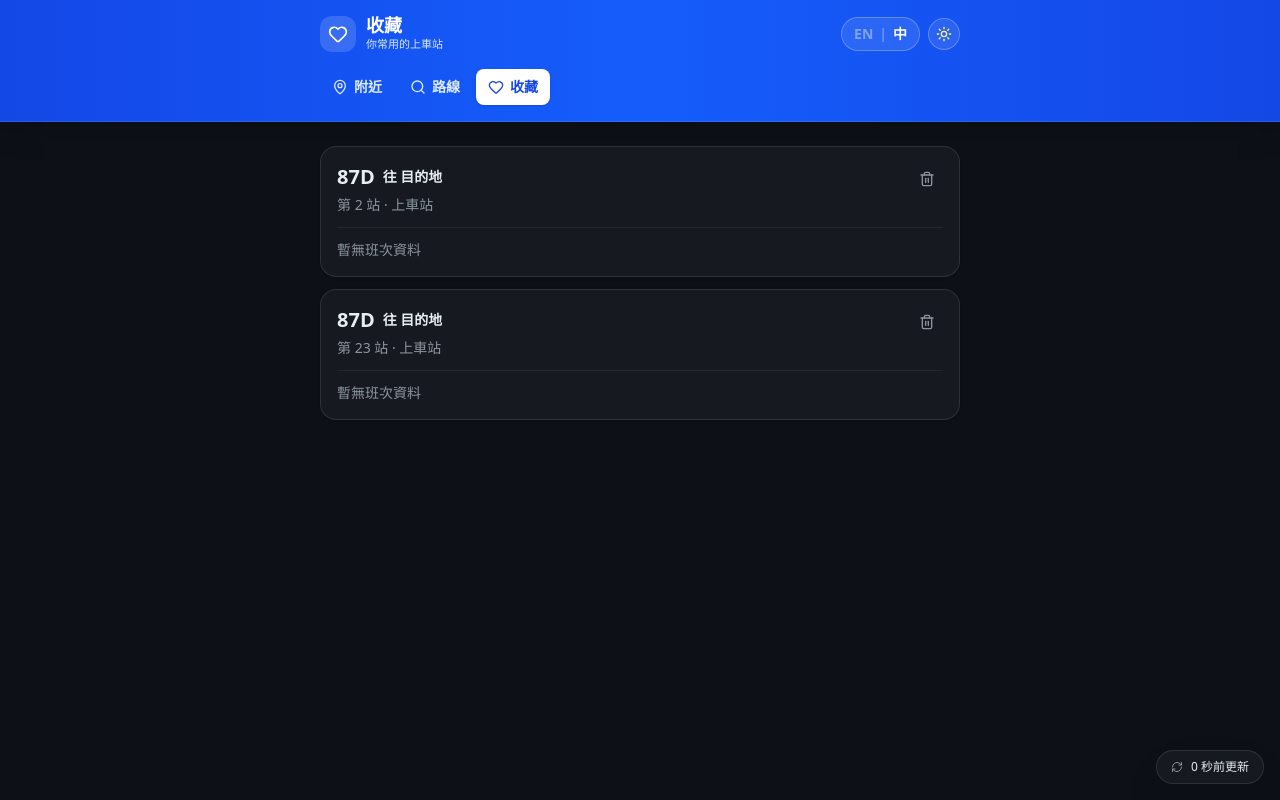
Test: FavouritesPage › distinguishes repeated boarding stops and removes only the selected sequence
Expected: the text "第 2 站 · 上車站" is shown, [337,194,433,214]
Expected: the text "第 23 站 · 上車站" is shown, [337,338,441,356]
Click the button named "移除 87D（O/1）第 2 站 上車站收藏" at {"x": 927, "y": 178}, box [911,162,943,194]
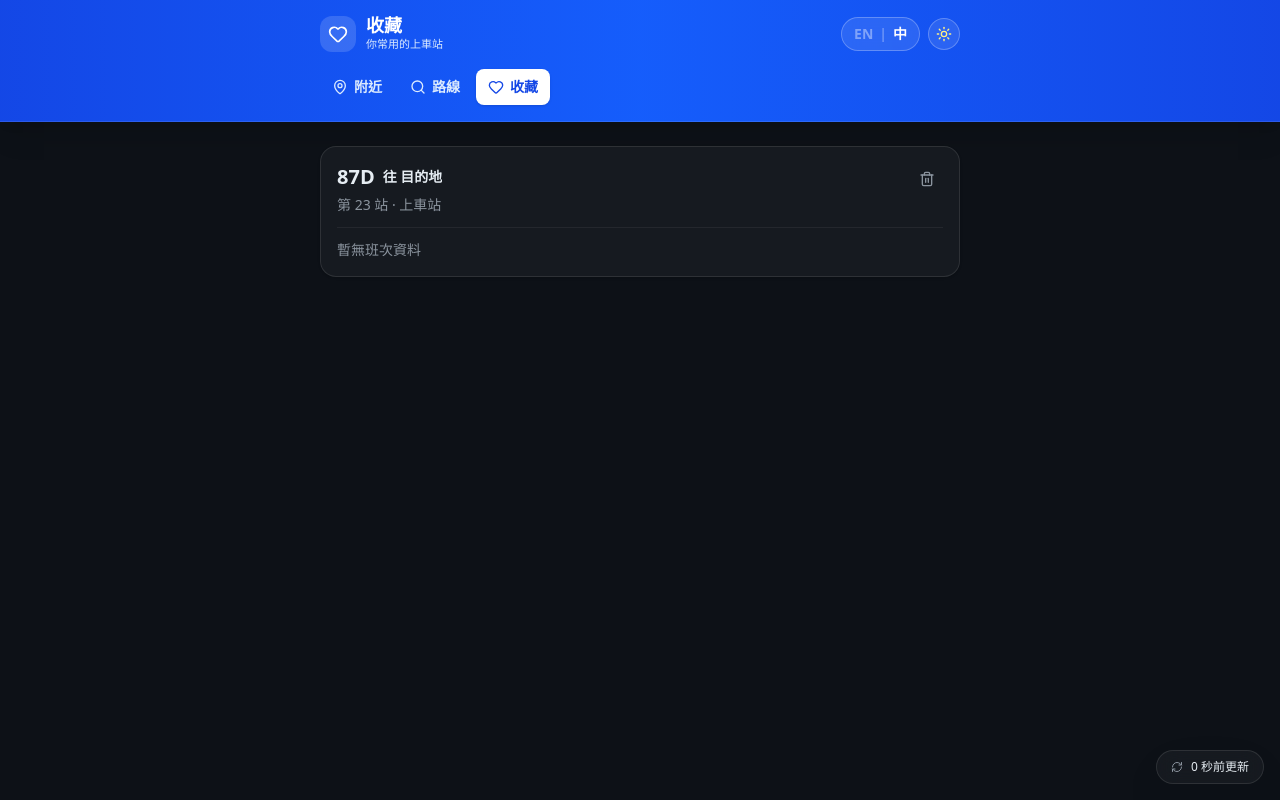
Expected: the text "第 23 站 · 上車站" is shown, [337,194,441,214]
Result: the link "第 2 站 · 上車站" is gone
